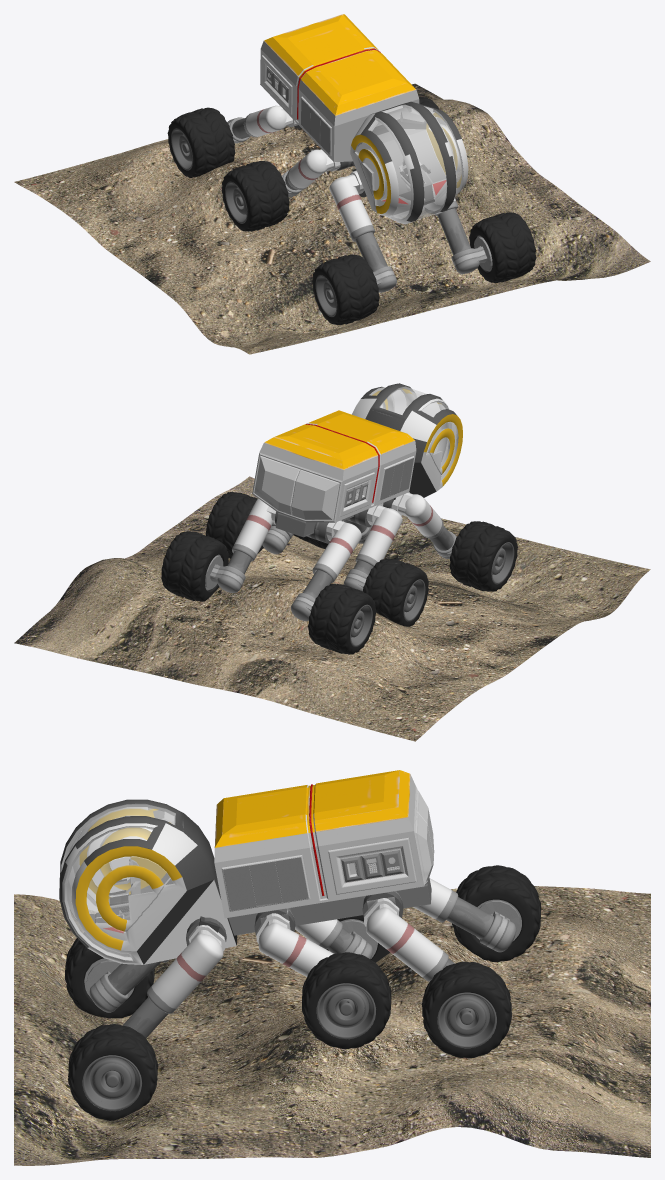
File: mars-rover.glb
The picture shows the model from 3 angles, top to bottom: view 1: azimuth 30°, elevation 25°; view 2: azimuth 150°, elevation 25°; view 3: azimuth 270°, elevation 25°; orthographic projection. The views are drawn at different scales.
Visible parts, largest first — view 1: Plane001, Box001, Cylinder001, Cylinder039, Cylinder036, Cylinder042, Cylinder006, Object003__0, Cylinder017, Cylinder037, Object001__0, Cylinder040 (+3 smaller); view 2: Plane001, Box001, Cylinder001, Cylinder036, Cylinder042, Cylinder039, Cylinder033, Cylinder030, Cylinder040, Cylinder043, Cylinder034, Cylinder037 (+5 smaller); view 3: Plane001, Box001, Cylinder001, Cylinder030, Cylinder033, Cylinder006, Cylinder042, Cylinder016, Cylinder034, Cylinder044, Cylinder036, Cylinder031 (+10 smaller).
Part boxes in pixels (x1,y1,x2,y2): Plane001: (14,83,650,354); Box001: (260,14,419,166); Cylinder001: (350,101,468,224); Cylinder039: (221,161,289,231); Cylinder036: (312,254,379,325); Cylinder042: (167,107,235,177); Cylinder006: (469,212,536,283); Object003__0: (383,105,446,220); Cylinder017: (437,208,492,273); Cylinder037: (329,170,374,241); Object001__0: (369,120,411,221); Cylinder040: (287,149,340,189); Plane001: (14,476,650,741); Box001: (252,410,416,537); Cylinder001: (352,383,462,505); Cylinder036: (449,521,517,591); Cylinder042: (308,583,376,654); Cylinder039: (363,558,428,626); Cylinder033: (161,531,228,601); Cylinder030: (205,491,263,558); Cylinder040: (355,504,402,566); Cylinder043: (312,520,361,583); Cylinder034: (232,498,275,561); Cylinder037: (391,492,443,538); Plane001: (14,886,650,1165); Box001: (214,770,434,935); Cylinder001: (59,799,237,964); Cylinder030: (302,952,391,1049); Cylinder033: (422,961,511,1058); Cylinder006: (68,1024,157,1120); Cylinder042: (452,865,541,962); Cylinder016: (147,925,225,1013); Cylinder034: (364,898,448,981); Cylinder044: (446,897,521,952); Cylinder036: (65,932,154,1018); Cylinder031: (256,913,333,976).
Bounding box in the file's own units: 67.29 × 33.46 × 68.39.
Materials: 28 (27 with a texture image).
